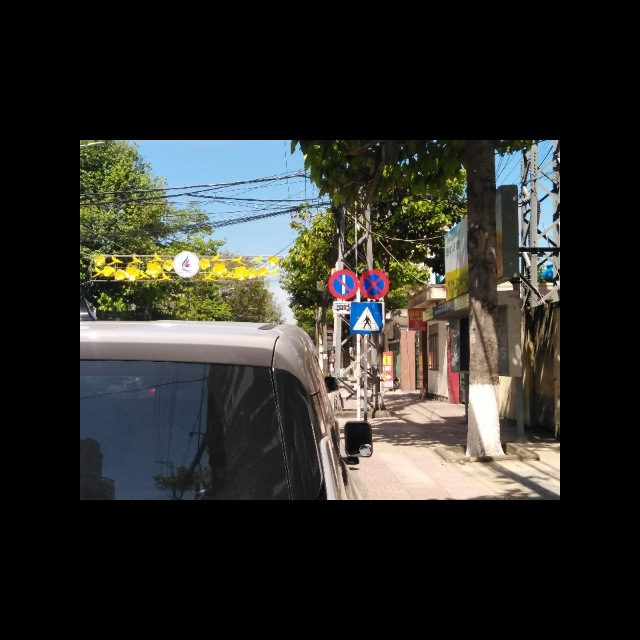Cấm dừng xe và đỗ xe: (360, 269, 390, 299)
Cấm đỗ xe ngày lẻ: (328, 270, 359, 299)
Đường dành cho người đi bộ: (350, 302, 383, 334)
